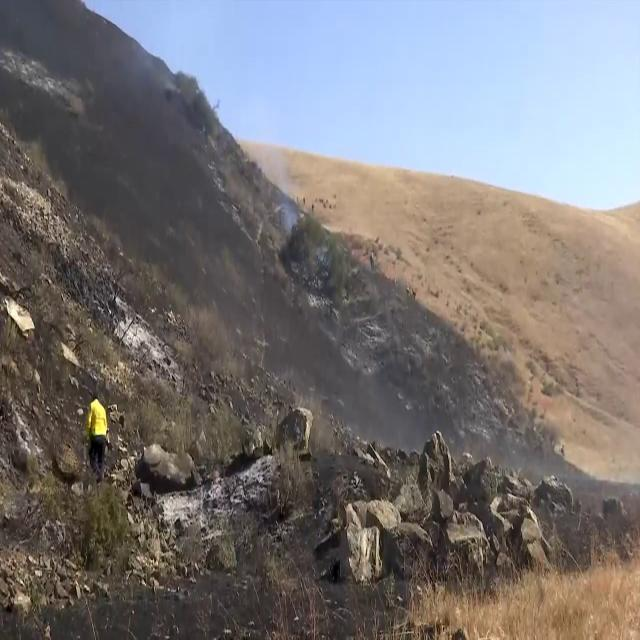Smoke: (277, 154, 301, 240)
